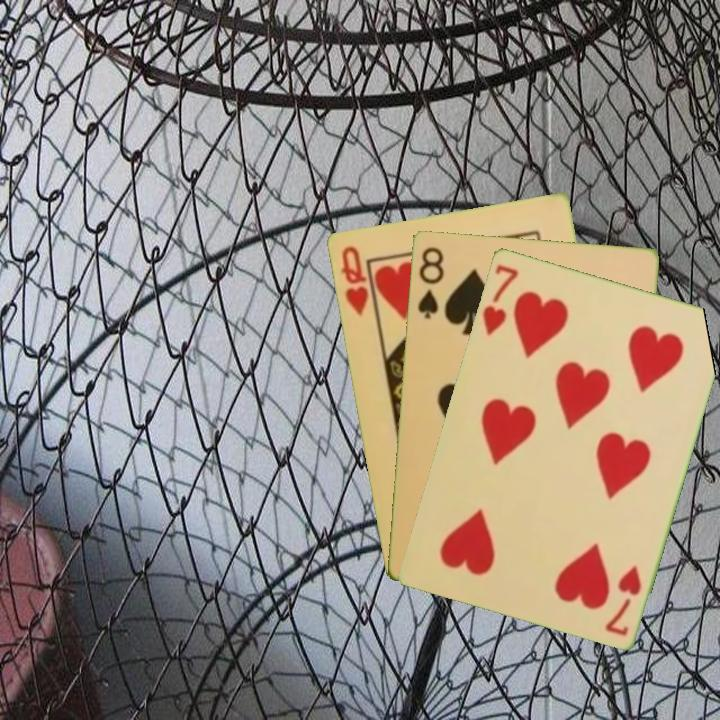7h: (478, 260, 522, 339), (601, 562, 644, 638)
8s: (414, 243, 447, 322)
Qh: (336, 242, 371, 319)
